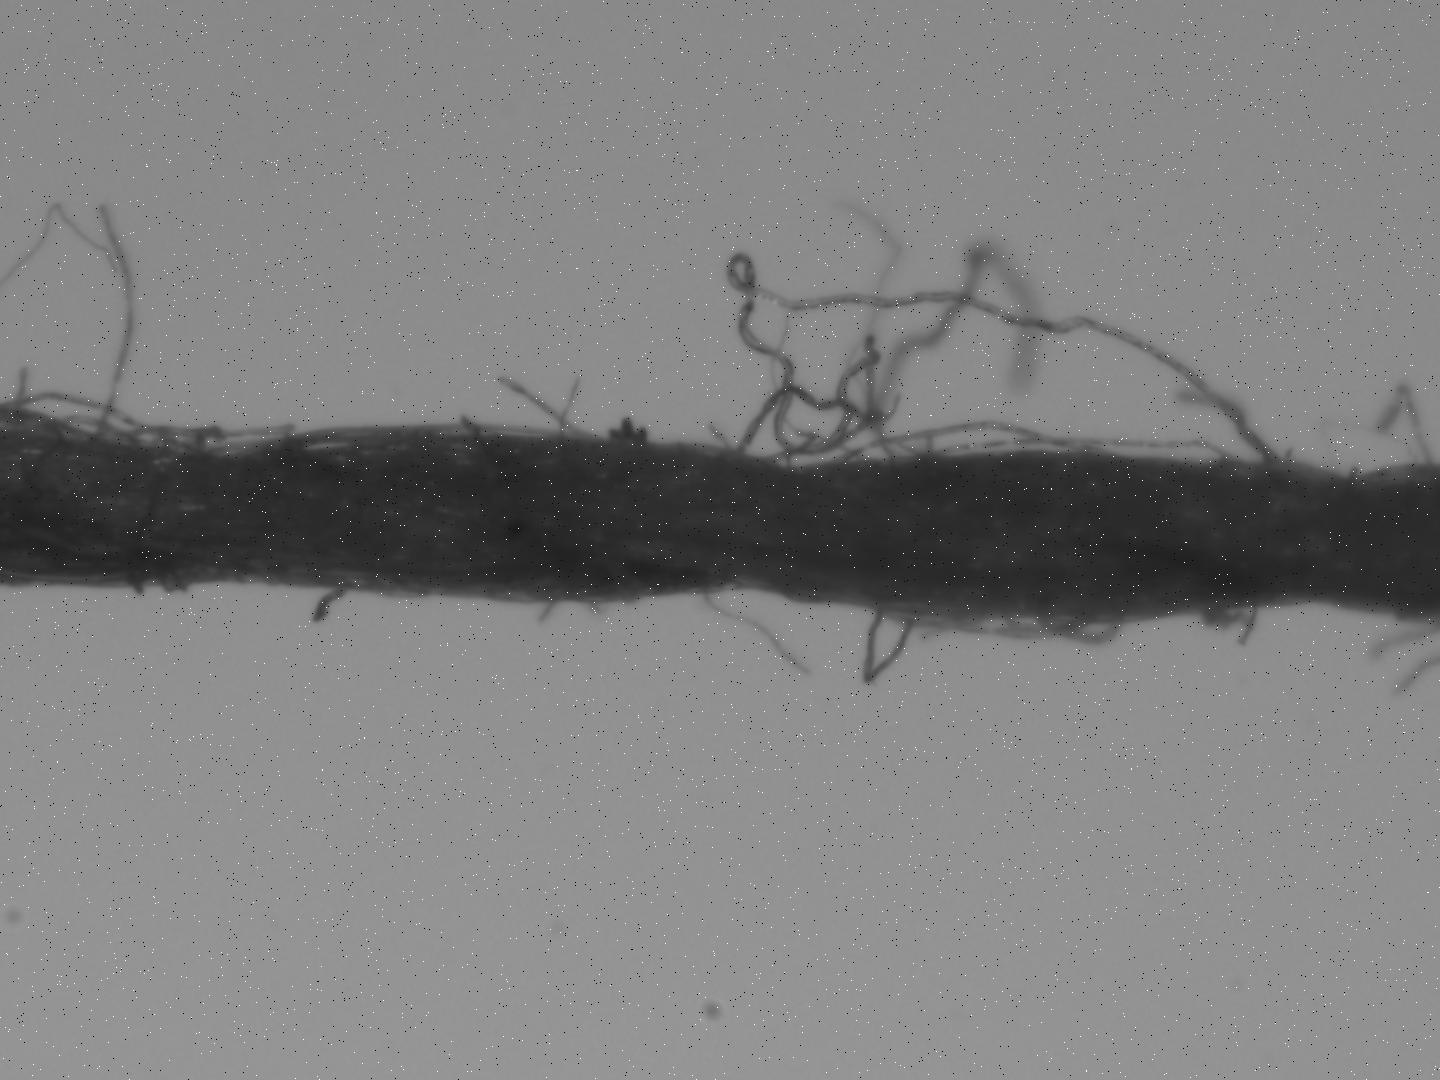loop_fiber: (837, 421, 1094, 465), (12, 394, 186, 448), (906, 604, 1091, 642), (866, 602, 918, 685), (1049, 609, 1128, 646), (277, 428, 367, 458)
protruding_fiber: (700, 589, 812, 673), (98, 209, 133, 438), (498, 370, 601, 441), (315, 587, 353, 623)
